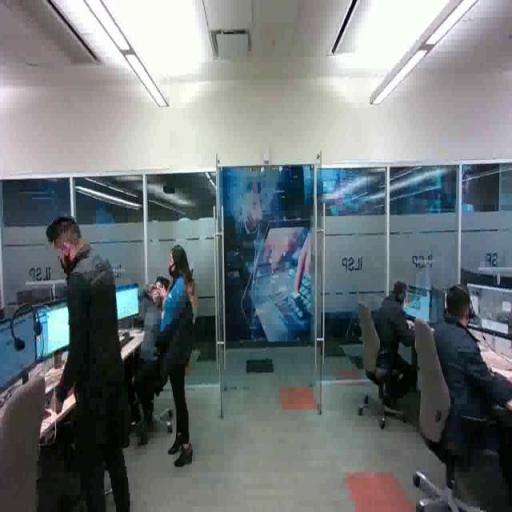person: (43, 212, 132, 512), (420, 282, 512, 495), (156, 235, 201, 474), (373, 274, 427, 433)
